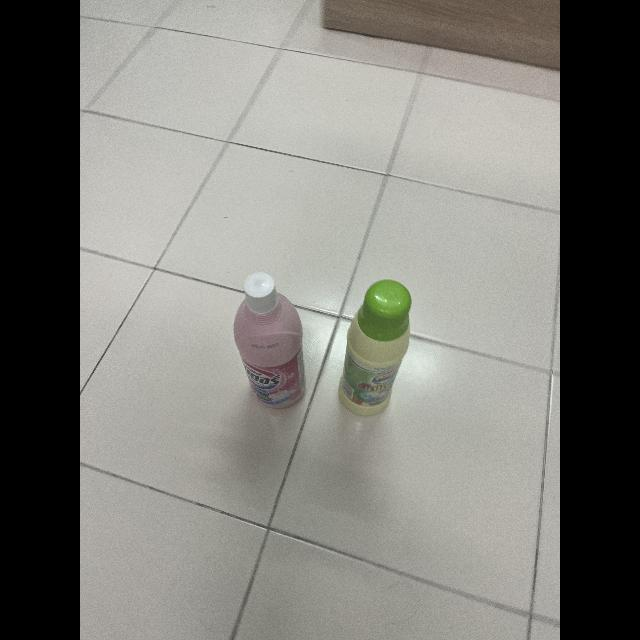chemical_plastic_bottle: (337, 278, 421, 416), (230, 275, 310, 413)
